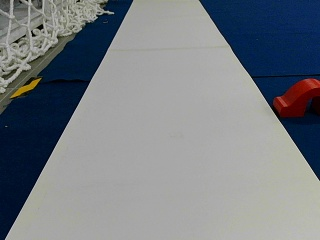bridge: (274, 78, 318, 114)
